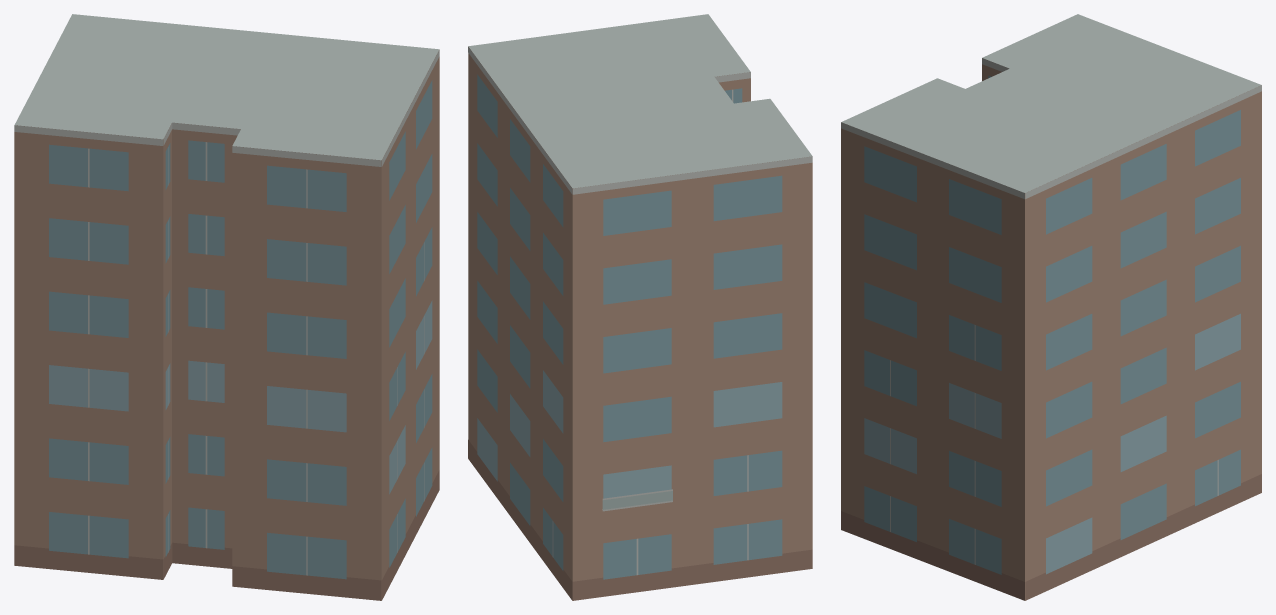
The model's file is survey-upis-32970981.glb.
3 renders of one model, left to right at view 1: azimuth 30°, elevation 25°; view 2: azimuth 150°, elevation 25°; view 3: azimuth 270°, elevation 25°, orthographic. The views are drawn at different scales.
Visible parts, largest first — view 1: survey-upis-32970981.tmp; view 2: survey-upis-32970981.tmp; view 3: survey-upis-32970981.tmp.
Boxes of the visible parts, left/top/right/bottom form: survey-upis-32970981.tmp: left=14, top=14, right=439, bottom=600; survey-upis-32970981.tmp: left=468, top=14, right=812, bottom=600; survey-upis-32970981.tmp: left=841, top=14, right=1261, bottom=600.
Size of the model in its own units: 14.99 by 15.9 by 14.88.
